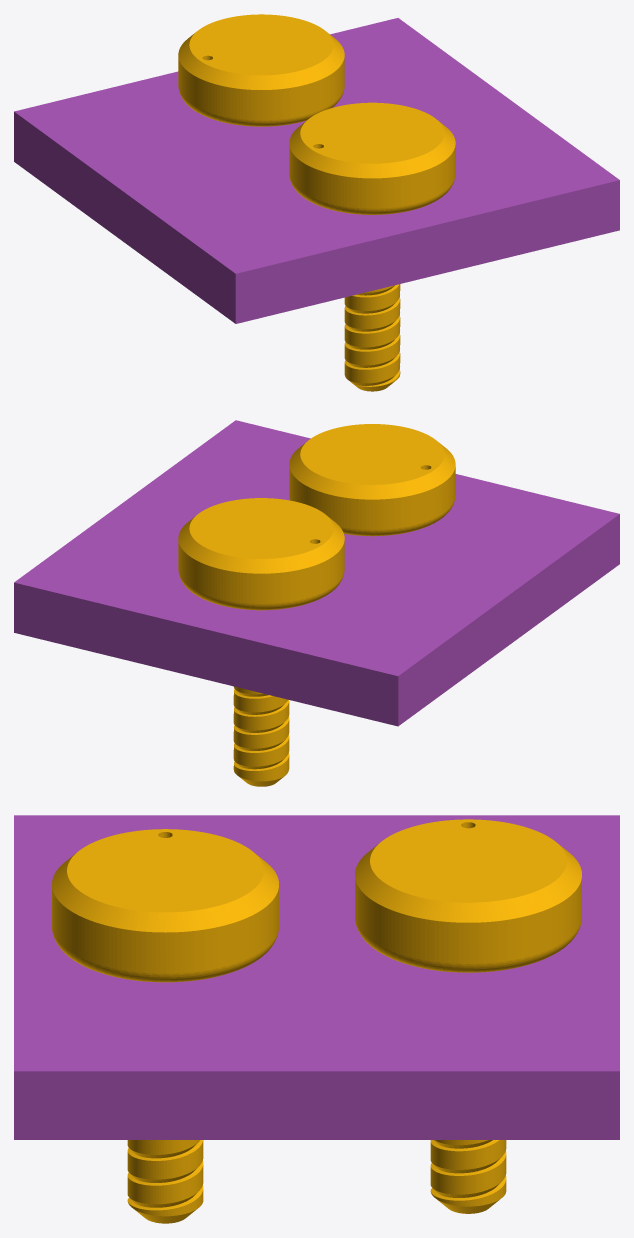
The model's file is assy.dae.
The picture shows the model from 3 angles, top to bottom: view 1: azimuth 30°, elevation 25°; view 2: azimuth 150°, elevation 25°; view 3: azimuth 270°, elevation 25°; orthographic projection. The views are drawn at different scales.
Parts seen in each view (by area): view 1: board, screw (×2); view 2: board, screw (×2); view 3: board, screw (×2).
Boxes of the visible parts, x1,y1,x2,y2 form: board: (14,18,619,323); screw (×2): (178,14,455,391); board: (14,420,619,726); screw (×2): (178,424,455,786); board: (14,815,619,1139); screw (×2): (52,819,581,1223).
Size of the model in its own units: 0.1016 by 0.1016 by 0.0653.
